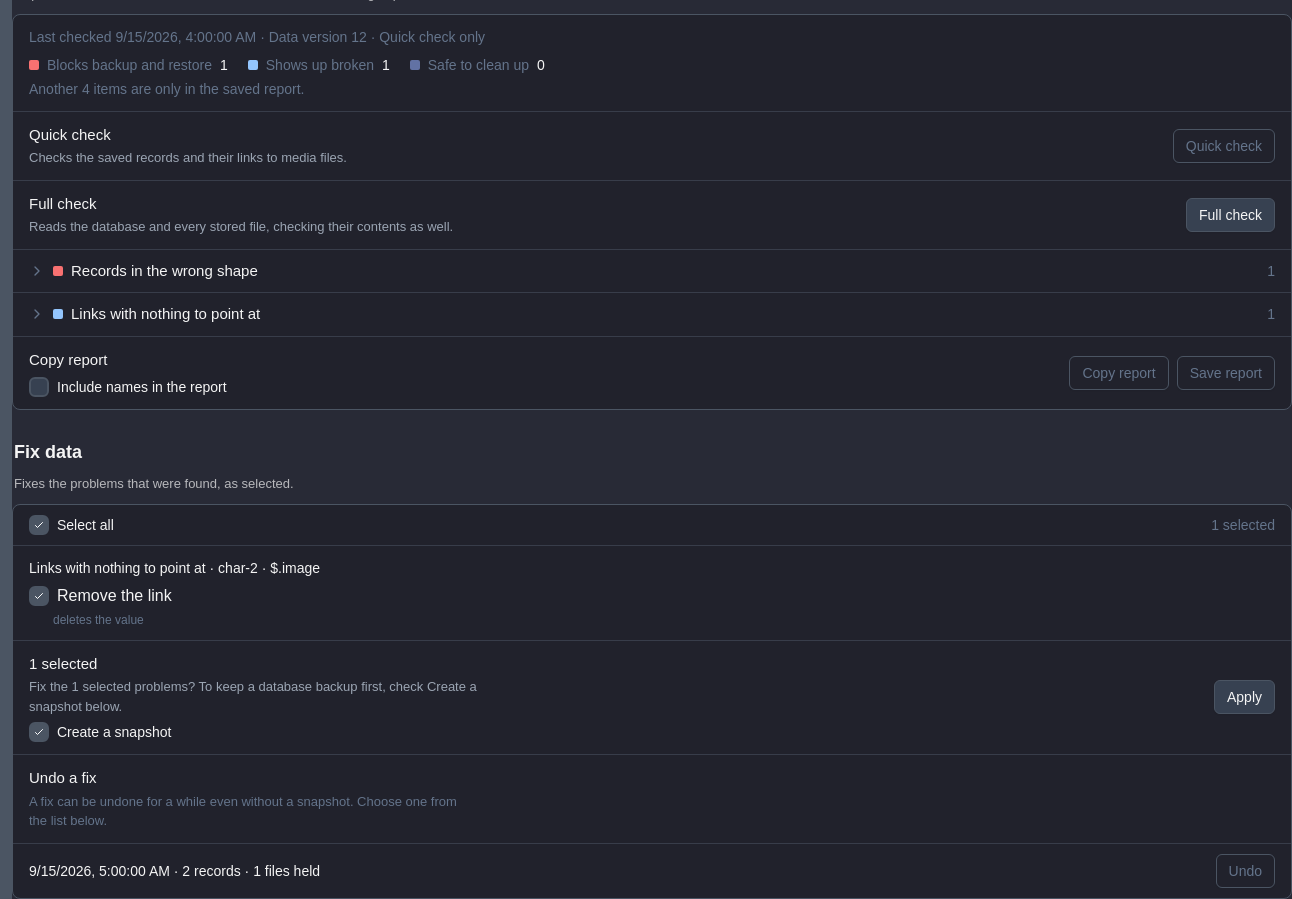
it: RisuNestDataHealth › lists the repairs that can still be undone and reports what an undo left
This screenshot has width=1292, height=899.
(page scrolled)
Expected: the element that starts with "Undo a fix" shows "2", [13,755,1291,898]
Click the button "Undo".
click(1245, 870)  # box [1216,854,1275,888]
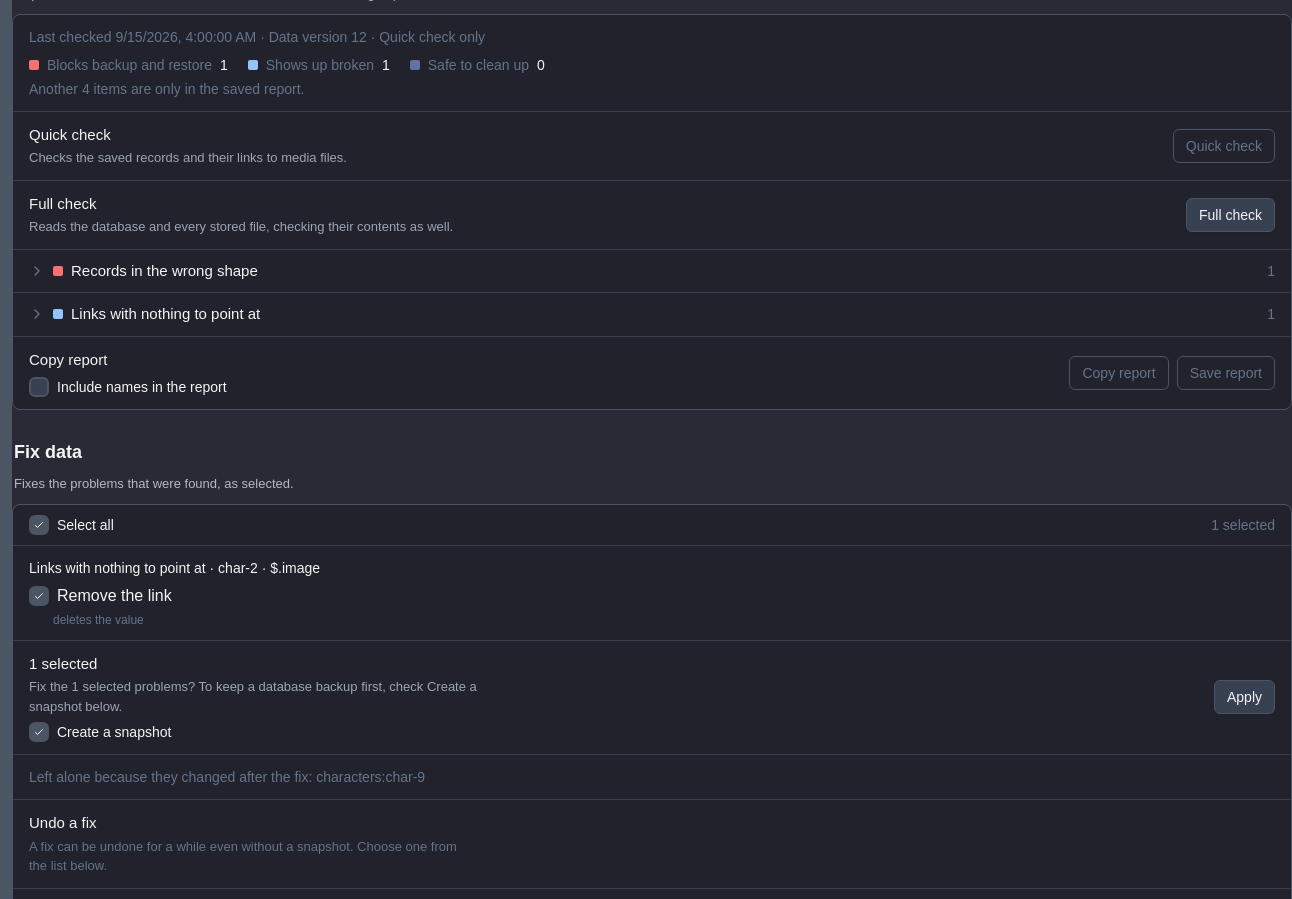
Now the message "Left alone because they changed after the fix: characters:char-9" is shown, box [13,755,1291,800]
